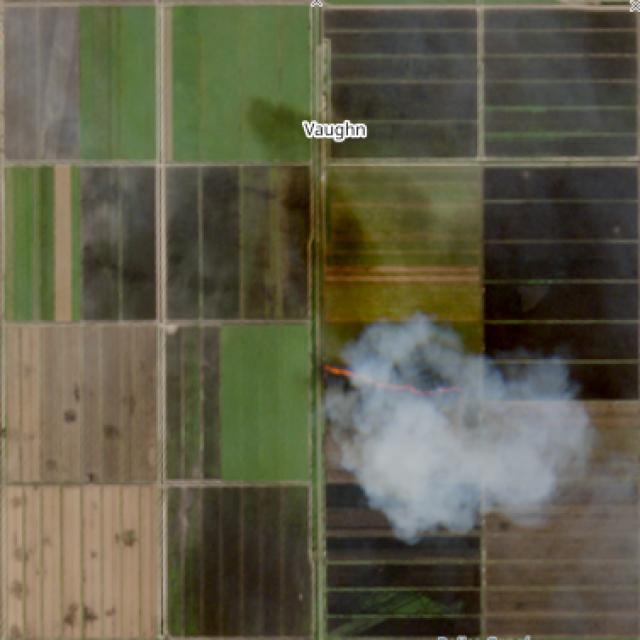wildfire: (300, 310, 610, 557)
